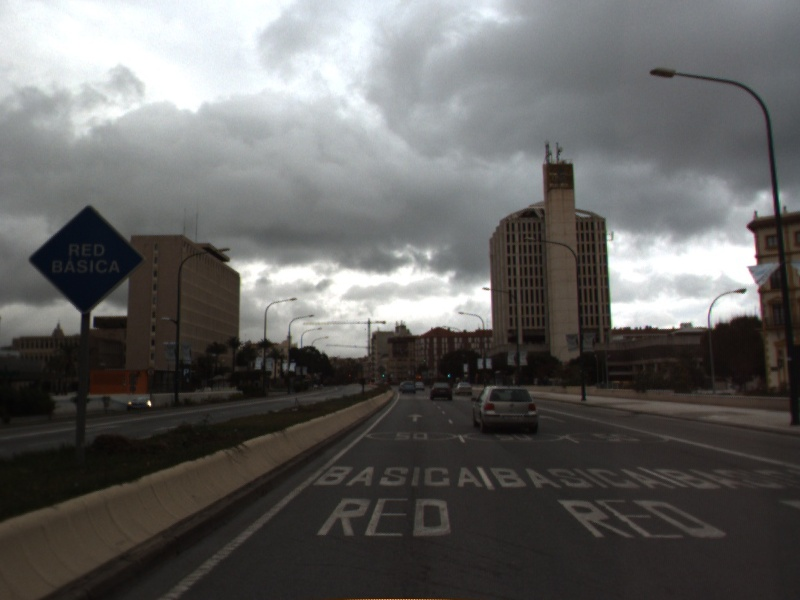STRAIGHT: (538, 413, 568, 424), (405, 411, 425, 424)
